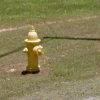Hydrant: (15, 20, 51, 78)
